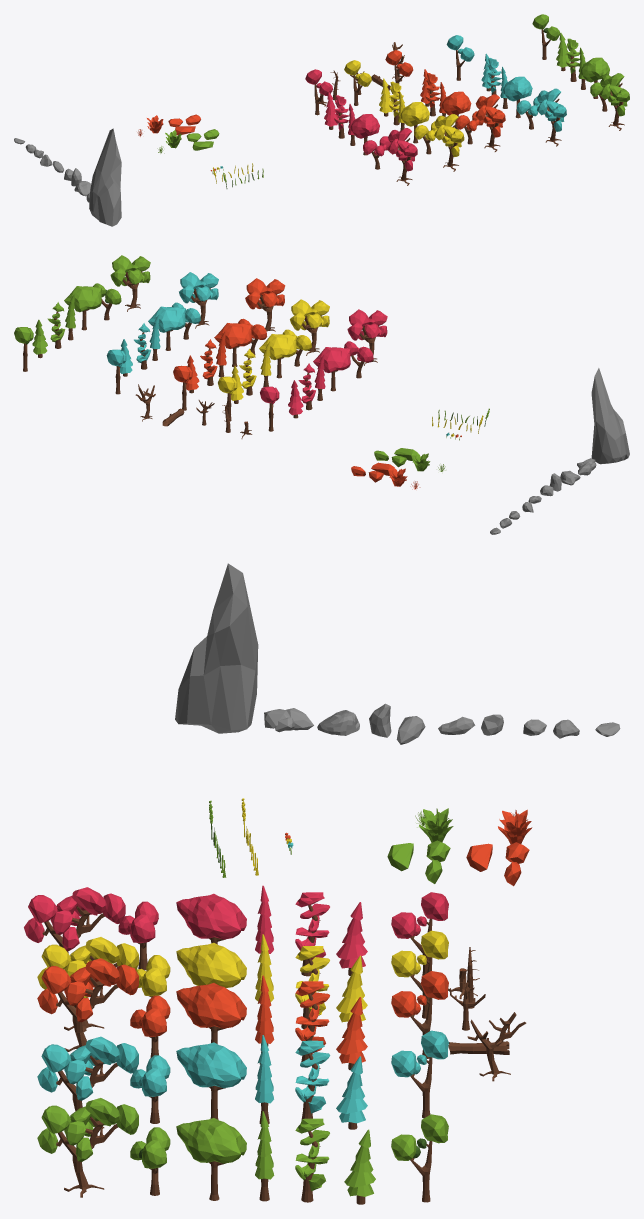
The model's file is Environment.fbx.
The picture shows the model from 3 angles, top to bottom: view 1: azimuth 30°, elevation 25°; view 2: azimuth 150°, elevation 25°; view 3: azimuth 270°, elevation 25°; orthographic projection. The views are drawn at different scales.
Parts seen in each view (by area): view 1: r10, t1-orange, t1-cyan, t1-yellow, t1-green, t1-purple, t3-cyan, t3-yellow, t3-purple, t3-green, t3-orange, t7-green (+15 smaller); view 2: r10, t1-green, t1-yellow, t1-cyan, t1-orange, t1-purple, t3-green, t3-purple, t3-yellow, t3-orange, t3-cyan, t2-purple (+10 smaller); view 3: r10, t1-green, t1-orange, t1-cyan, t1-purple, t3-green, t3-cyan, t3-orange, t3-purple, t1-yellow, t3-yellow, t7-green (+23 smaller).
Boxes of the visible parts, x1,y1,x2,y2 form: r10: (89,128,121,226); t1-orange: (475,94,505,151); t1-cyan: (537,88,566,146); t1-yellow: (434,114,464,171); t1-green: (600,73,629,130); t1-purple: (388,128,417,185); t3-cyan: (503,76,532,118); t3-yellow: (400,102,429,143); t3-purple: (350,114,379,155); t3-green: (580,57,609,98); t3-orange: (441,91,471,129); t7-green: (532,14,560,59); r10: (591,368,629,464); t1-green: (110,255,150,311); t1-yellow: (290,299,329,355); t1-cyan: (179,272,218,328); t1-orange: (245,278,285,331); t1-purple: (347,309,387,365); t3-green: (64,286,101,330); t3-purple: (313,347,350,391); t3-yellow: (259,334,296,378); t3-orange: (214,323,252,367); t3-cyan: (148,306,185,350); t2-purple: (344,341,373,378); r10: (175,563,258,733); t1-green: (37,1098,138,1197); t1-orange: (37,958,138,1051); t1-cyan: (37,1036,138,1128); t1-purple: (24,887,125,953); t3-green: (176,1118,246,1200); t3-cyan: (176,1042,246,1119); t3-orange: (176,983,246,1043); t3-purple: (176,893,246,944); t1-yellow: (37,937,138,1032); t3-yellow: (176,942,246,987); t7-green: (391,1114,448,1202).
Bounding box in the file's own units: 12845 × 2087 × 6451.
